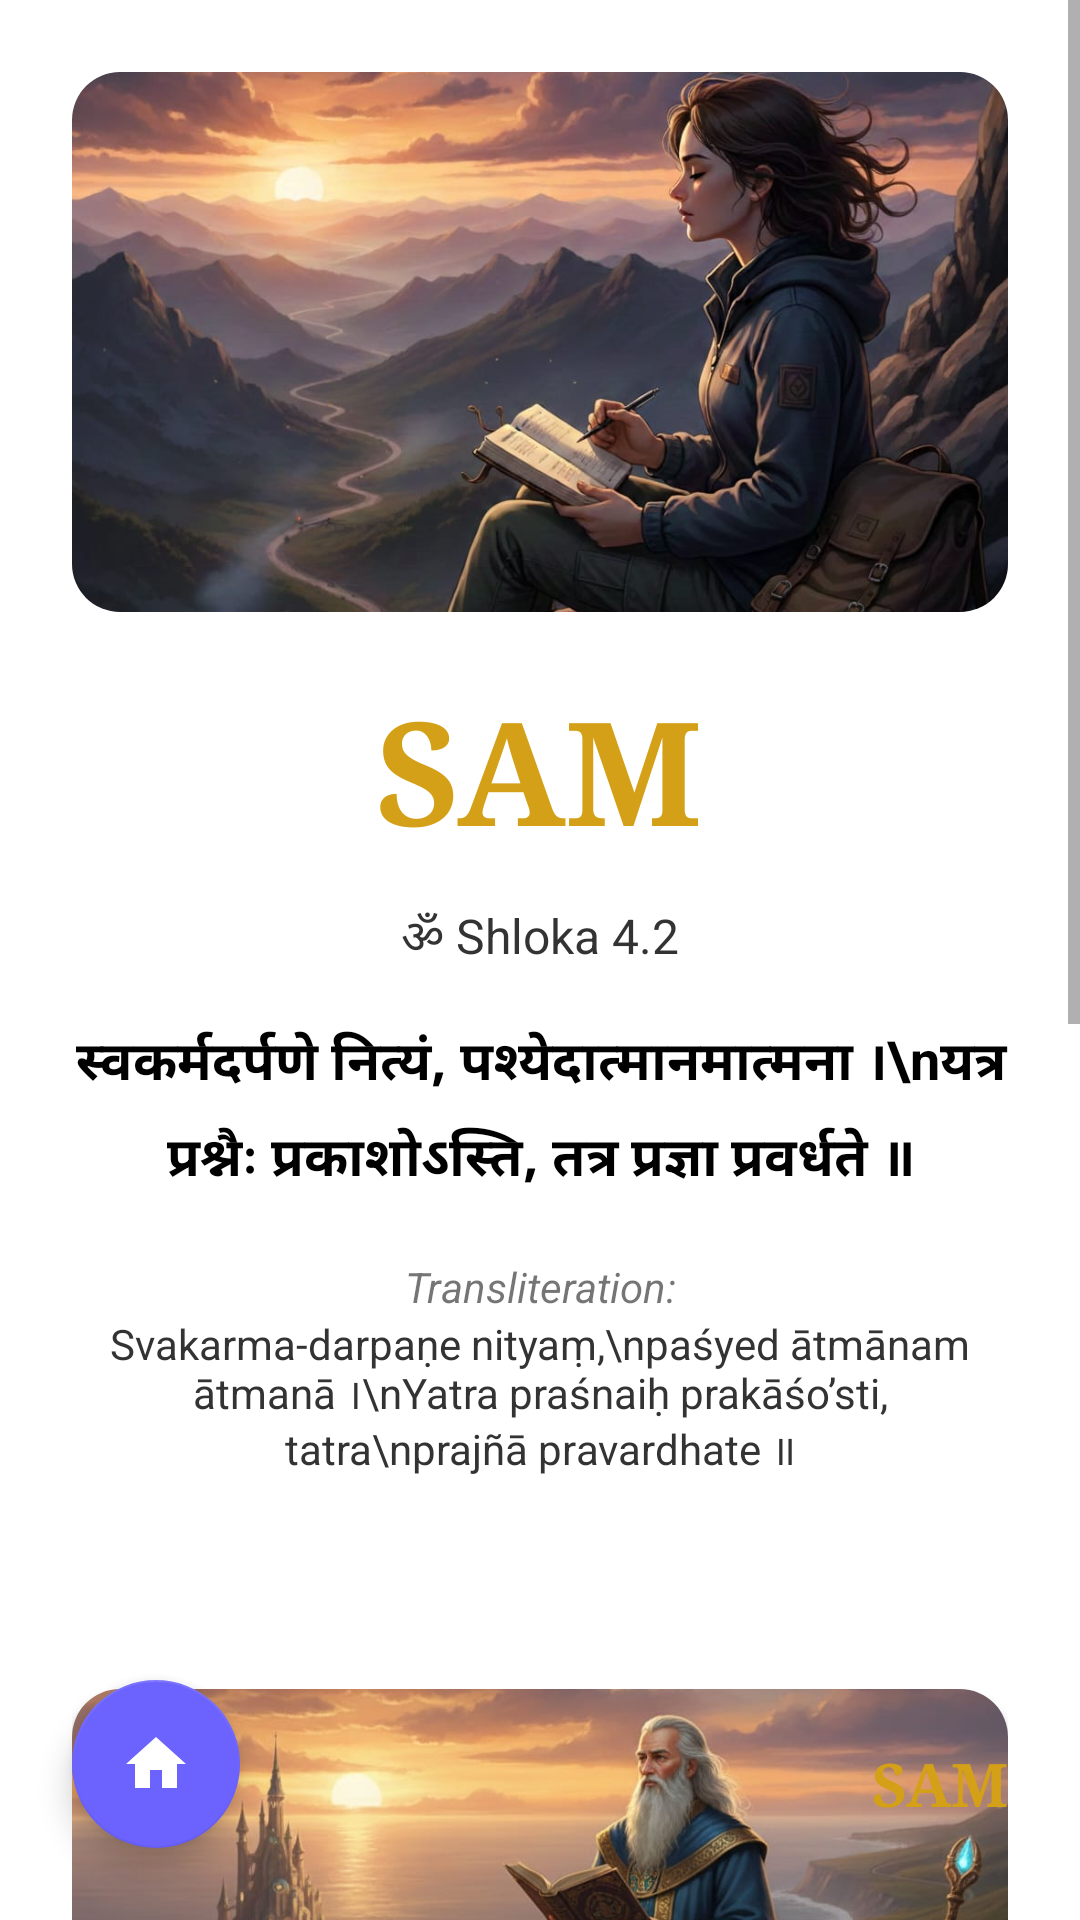

Point at icon controls on the screen. Image size 1080×1920, points as (x=x, y=y).
home: (x=156, y=1764)
